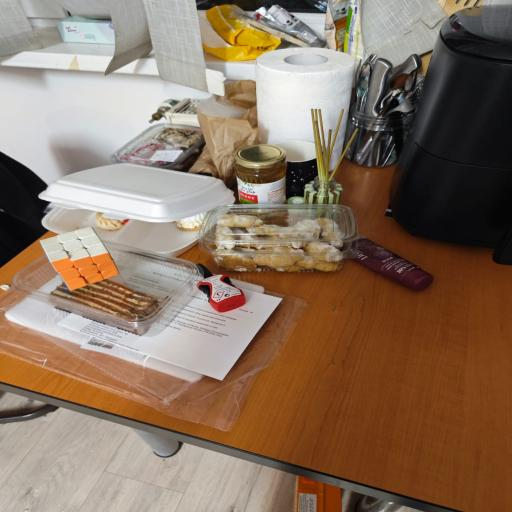Hand Cream: (336, 234, 436, 294)
Rubiks Cube: (28, 222, 118, 291)
Super Glue: (193, 260, 246, 313)
